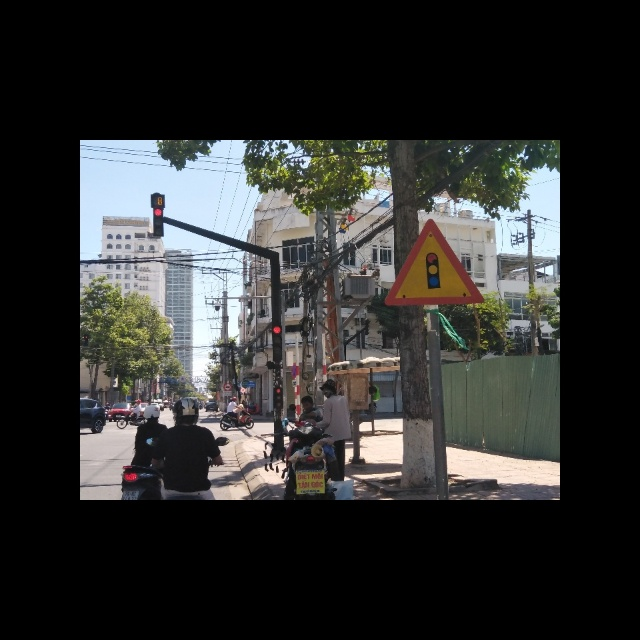Giao nhau có tín hiệu đèn: (388, 216, 492, 304)
Đèn đỏ: (273, 324, 282, 333)
